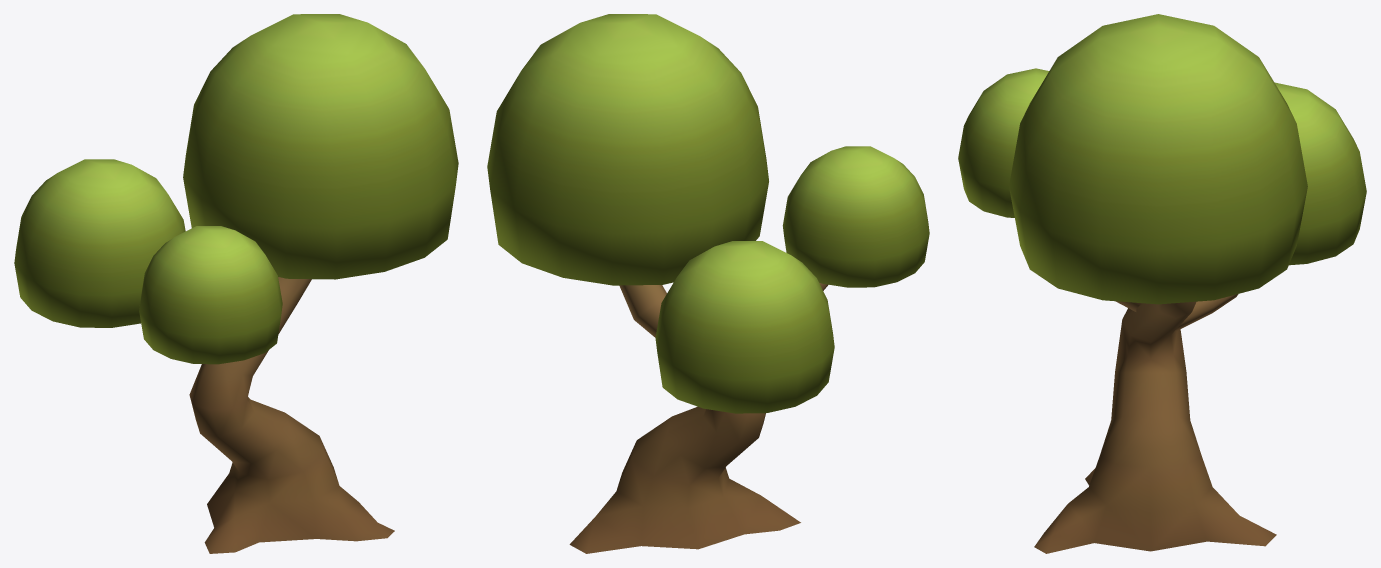
Rendered from pack03_foliage2_18.fbx.
3 views of the same model, side by side, from view 1: azimuth 30°, elevation 25°; view 2: azimuth 150°, elevation 25°; view 3: azimuth 270°, elevation 25° (orthographic). The views are drawn at different scales.
Parts seen in each view (by area): view 1: Tree.012; view 2: Tree.012; view 3: Tree.012.
Boxes of the visible parts, left/top/right/bottom form: Tree.012: left=14, top=14, right=458, bottom=553; Tree.012: left=487, top=14, right=929, bottom=553; Tree.012: left=958, top=14, right=1366, bottom=553.
Bounding box in the file's own units: 496 × 623 × 448.
Materials: 1 (1 with a texture image).
